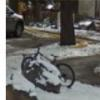bicycles: (20, 43, 76, 90)
